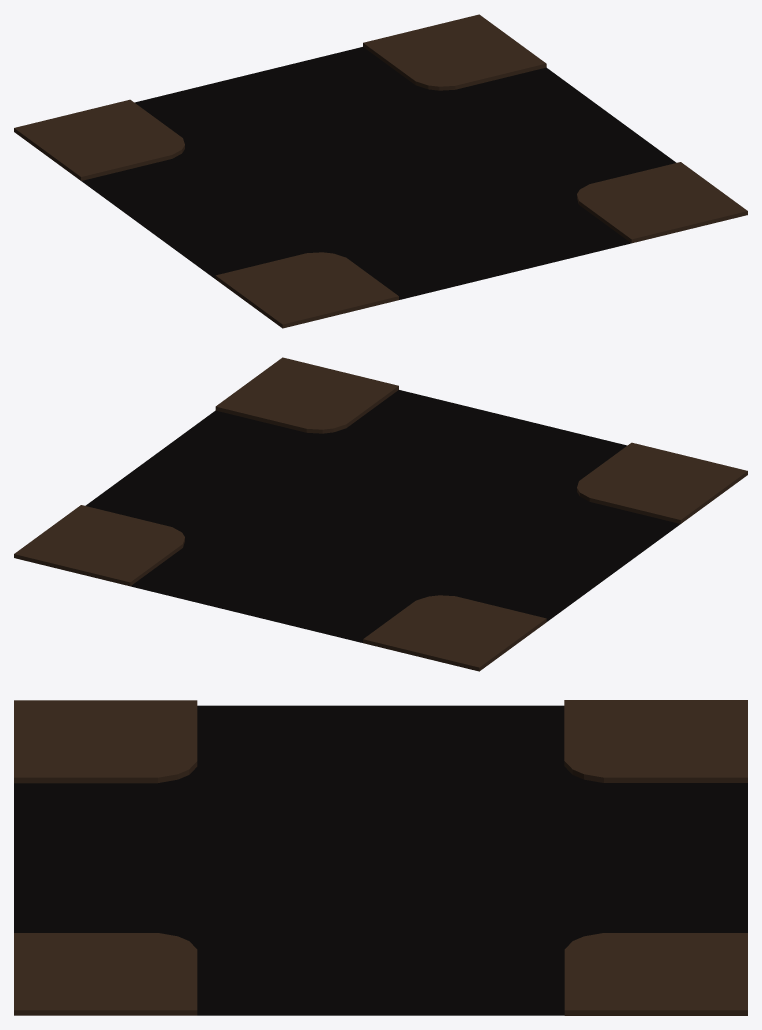
Rendered from CrossRoad_tile.FBX.
The picture shows the model from 3 angles, top to bottom: view 1: azimuth 30°, elevation 25°; view 2: azimuth 150°, elevation 25°; view 3: azimuth 270°, elevation 25°; orthographic projection. The views are drawn at different scales.
Parts seen in each view (by area): view 1: Crossroad_01; view 2: Crossroad_01; view 3: Crossroad_01.
Boxes of the visible parts, <box> form: Crossroad_01: <box>14,14,747,328</box>; Crossroad_01: <box>14,357,747,671</box>; Crossroad_01: <box>14,700,747,1015</box>.
Size of the model in its own units: 1900 by 1900 by 15.5.
